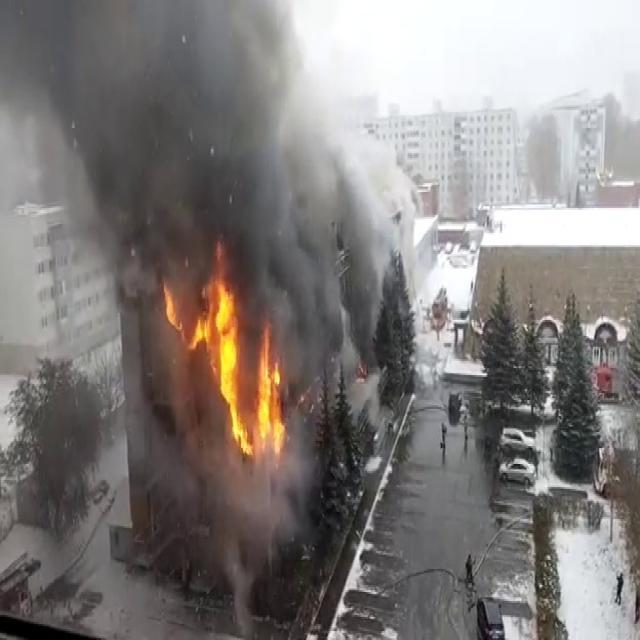Fire: (163, 260, 290, 467)
Smoke: (0, 0, 371, 454)
